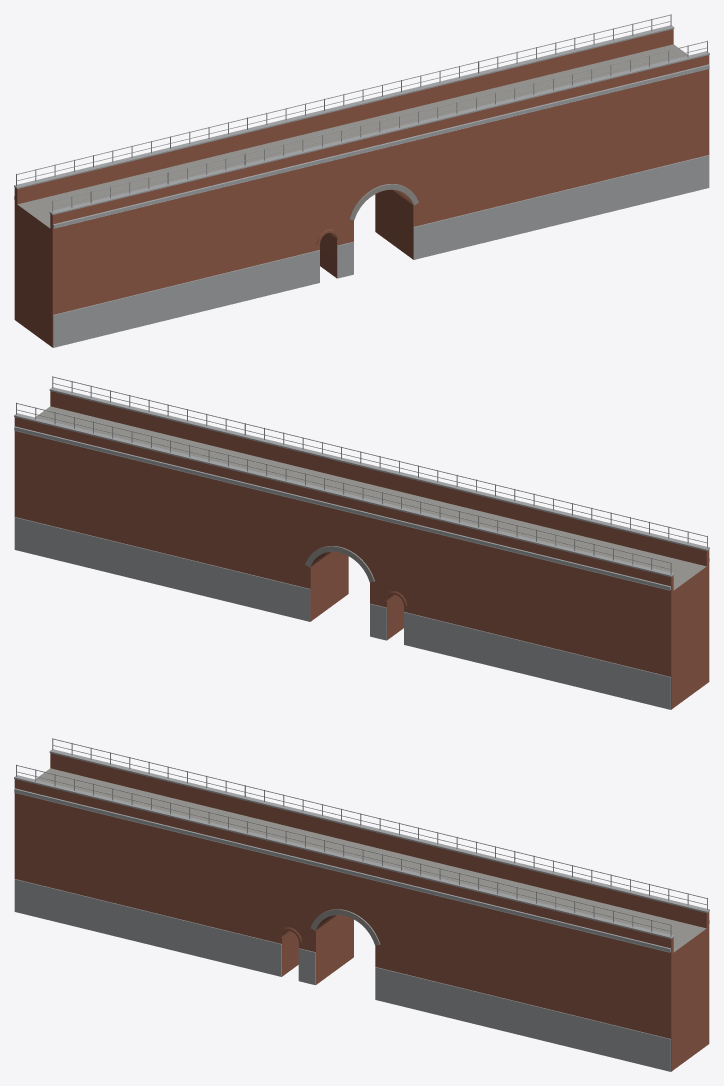
File: engeland_chord.glb
The picture shows the model from 3 angles, top to bottom: view 1: azimuth 30°, elevation 25°; view 2: azimuth 150°, elevation 25°; view 3: azimuth 330°, elevation 25°; orthographic projection.
Parts seen in each view (by area): view 1: engeland_chord; view 2: engeland_chord; view 3: engeland_chord.
Part boxes in pixels (x1=…): engeland_chord: x1=14, y1=14, x2=709, y2=347; engeland_chord: x1=14, y1=376, x2=709, y2=709; engeland_chord: x1=14, y1=738, x2=709, y2=1071.
Bounding box in the file's own units: 61.9 × 13.18 × 6.48.
